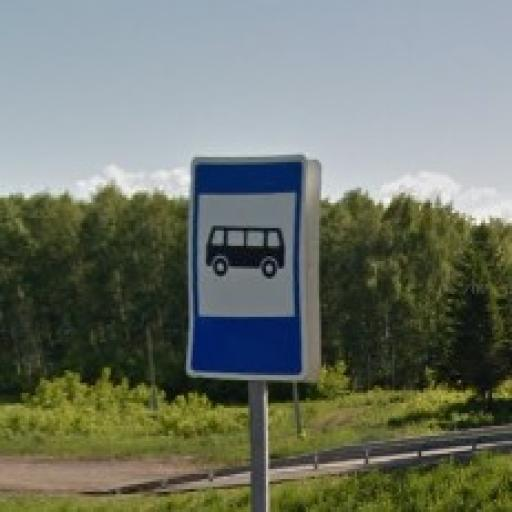traffic_sign: (185, 156, 307, 384)
